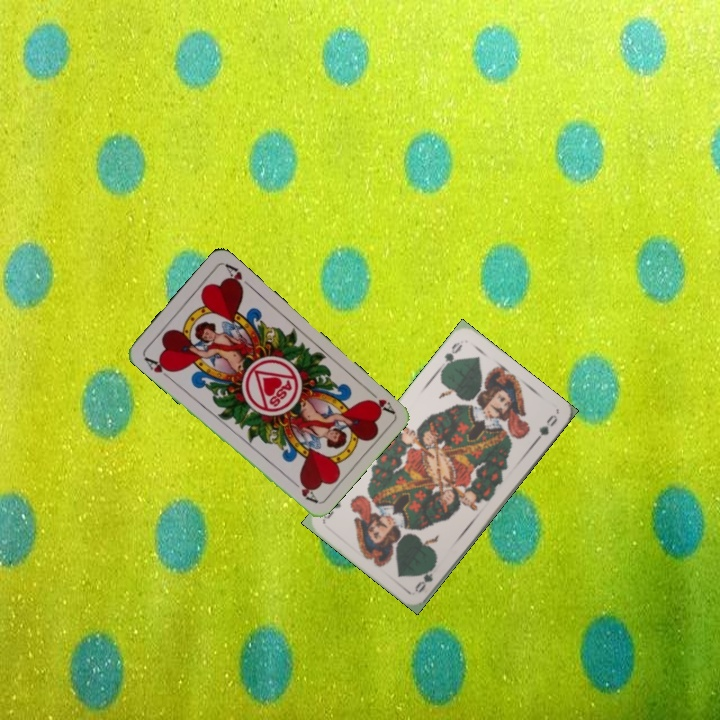GO: (435, 338, 465, 373), (411, 558, 439, 595)
HA: (363, 384, 397, 416), (140, 353, 175, 383)
